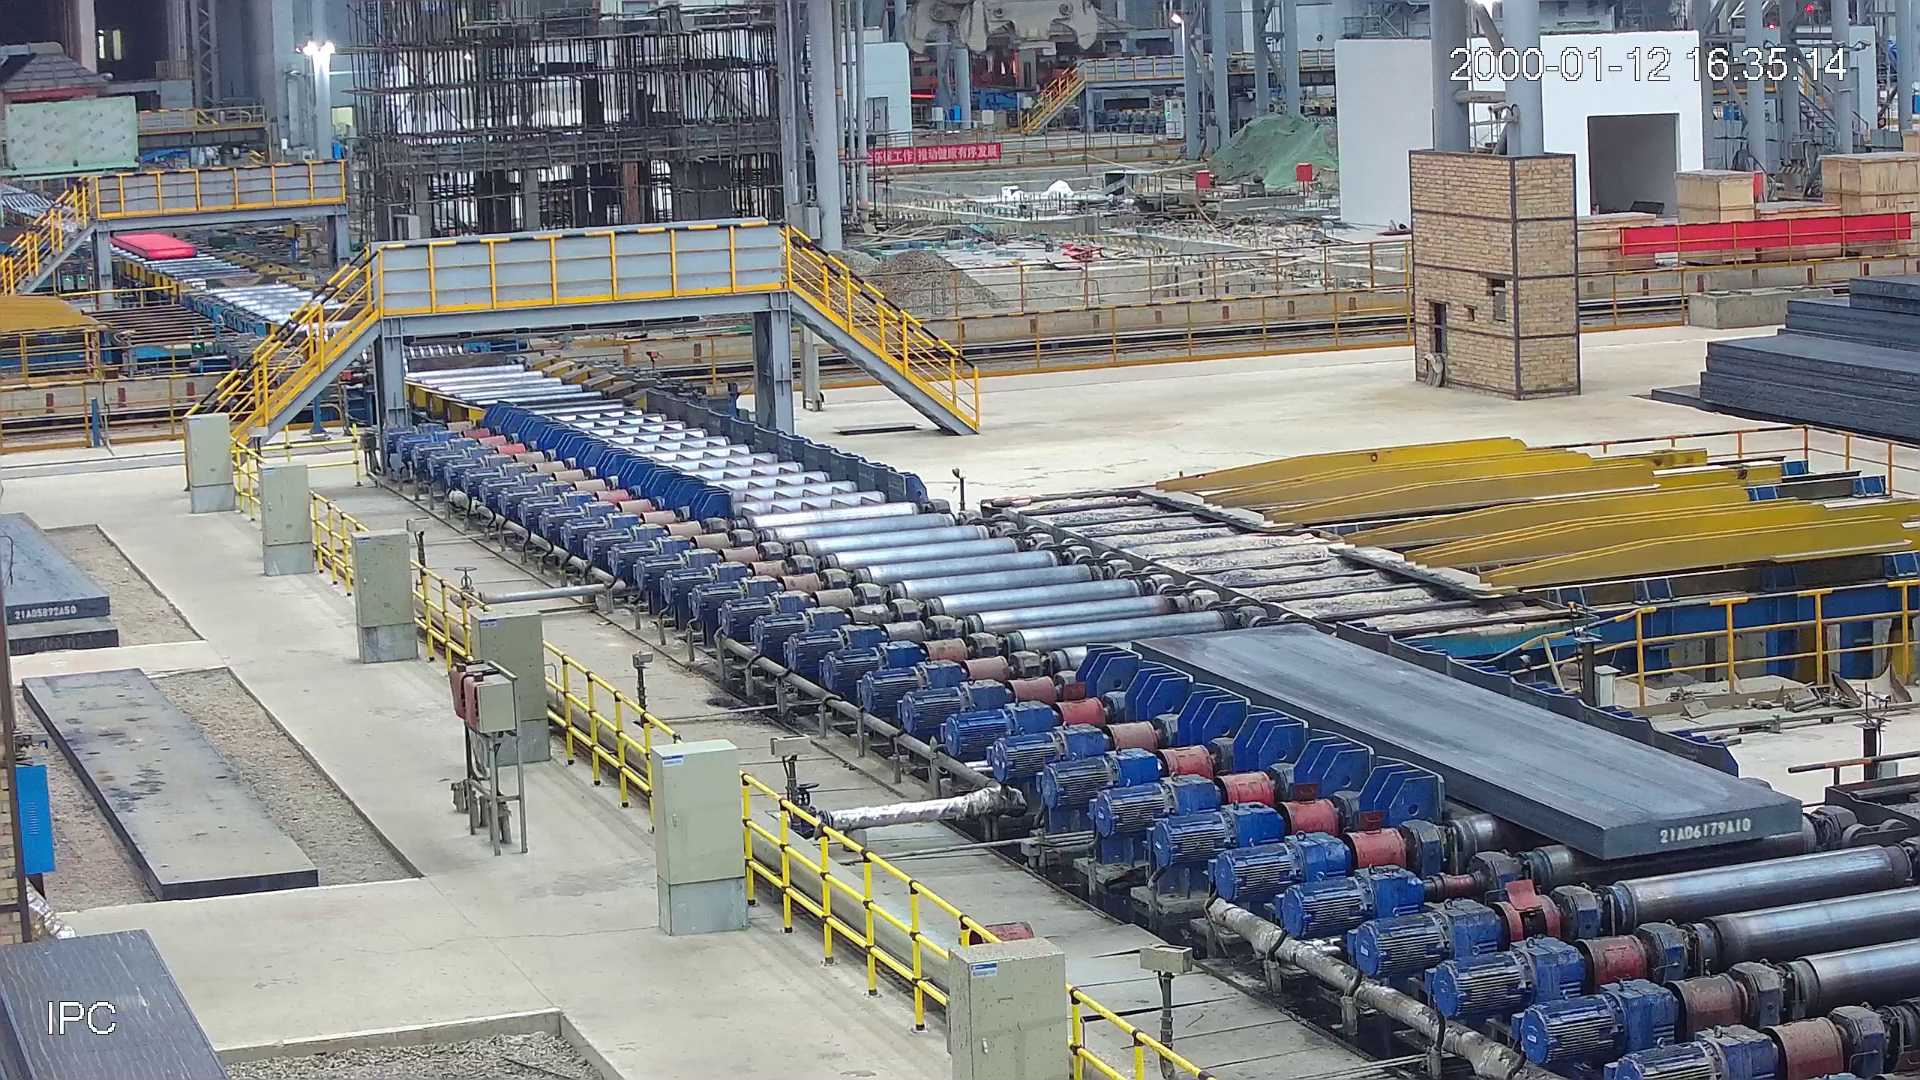slab: (1133, 632, 1807, 862), (113, 233, 199, 258)
